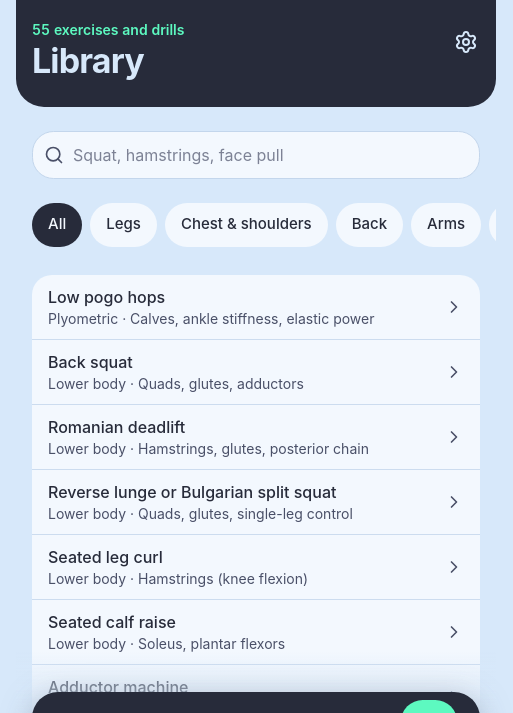
app shell › opens Settings from the header without the tab bar and goes back
The image size is (513, 713).
Click the link named "Settings": {"x": 466, "y": 42} [454,30,478,54]
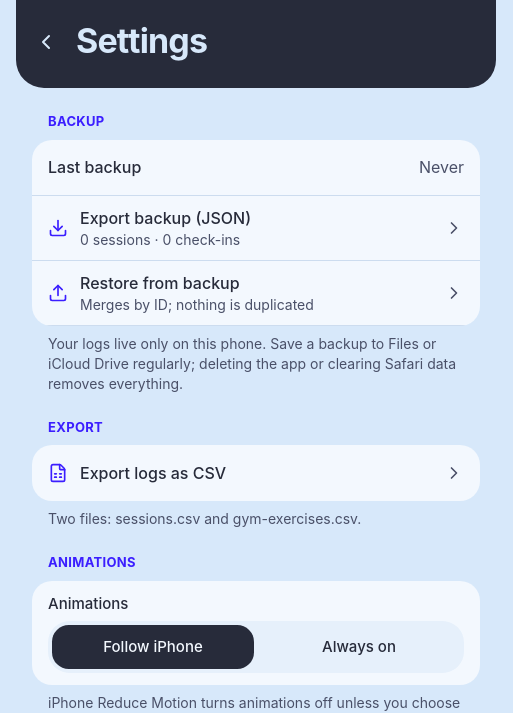
Expected: the heading "Settings" is shown, [76,20,207,61]
Click the button named "Back": {"x": 46, "y": 42} [24,20,68,64]
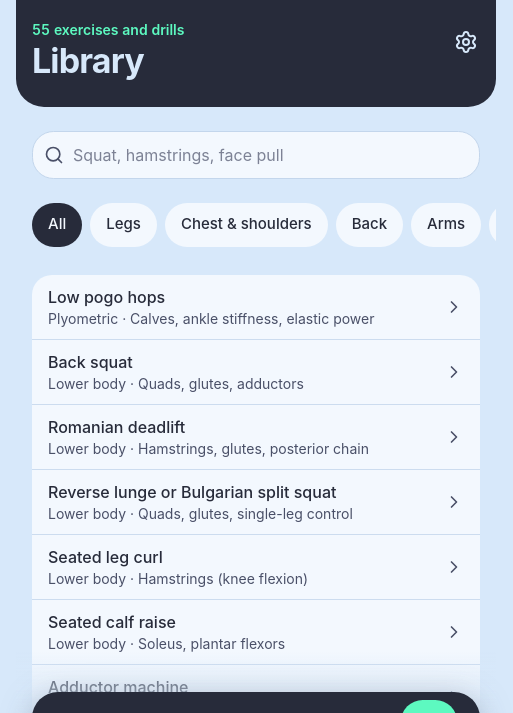
Expected: the heading "Library" is shown, [32,40,144,81]
